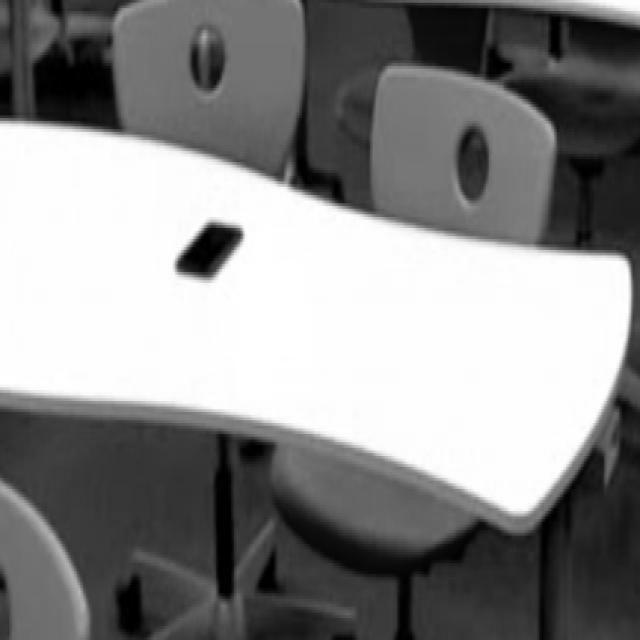fake: (172, 192, 250, 304)
